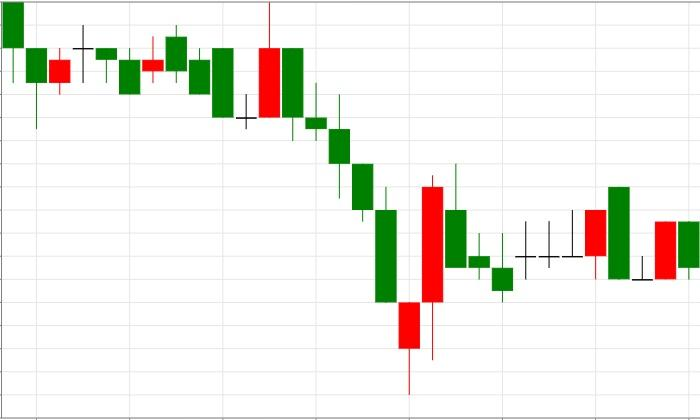bearish_engulfing_fall: (491, 186, 630, 303)
morning_star_rise: (165, 1, 281, 129)
